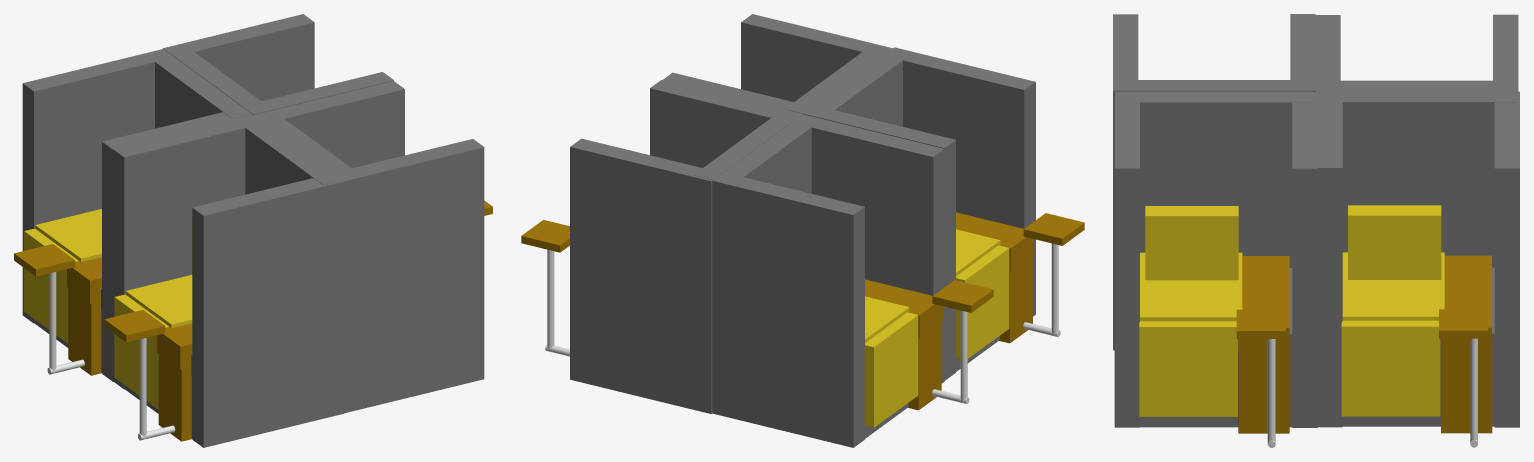
File: cubic.fbx
The picture shows the model from 3 angles, left to right: view 1: azimuth 30°, elevation 25°; view 2: azimuth 150°, elevation 25°; view 3: azimuth 270°, elevation 25°; orthographic projection. The views are drawn at different scales.
Visible parts, largest first — view 1: Cylinder.002; view 2: Cylinder.002; view 3: Cylinder.002.
Boxes of the visible parts, <box> form: Cylinder.002: <box>14,14,492,447</box>; Cylinder.002: <box>521,14,1084,447</box>; Cylinder.002: <box>1113,14,1519,447</box>.
Bounding box in the file's own units: 675 × 370 × 522.
